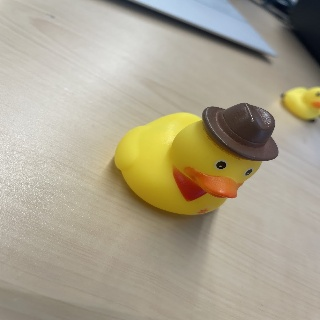duck_specialty: (113, 101, 277, 216)
